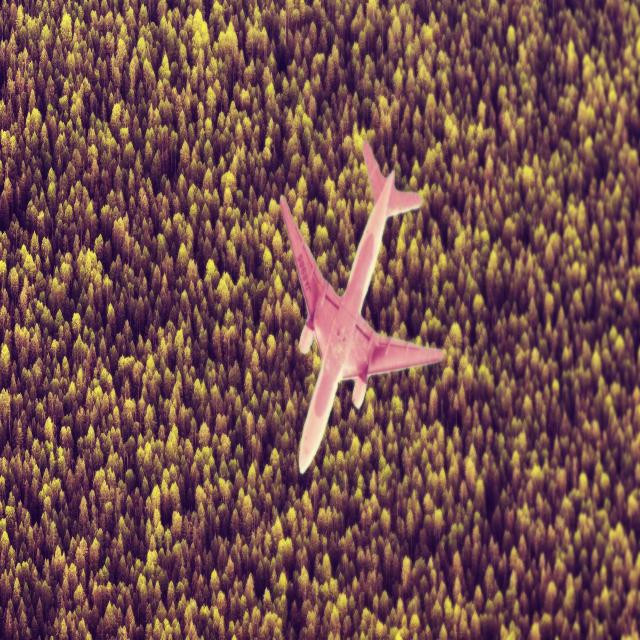airplane: (278, 138, 444, 474)
